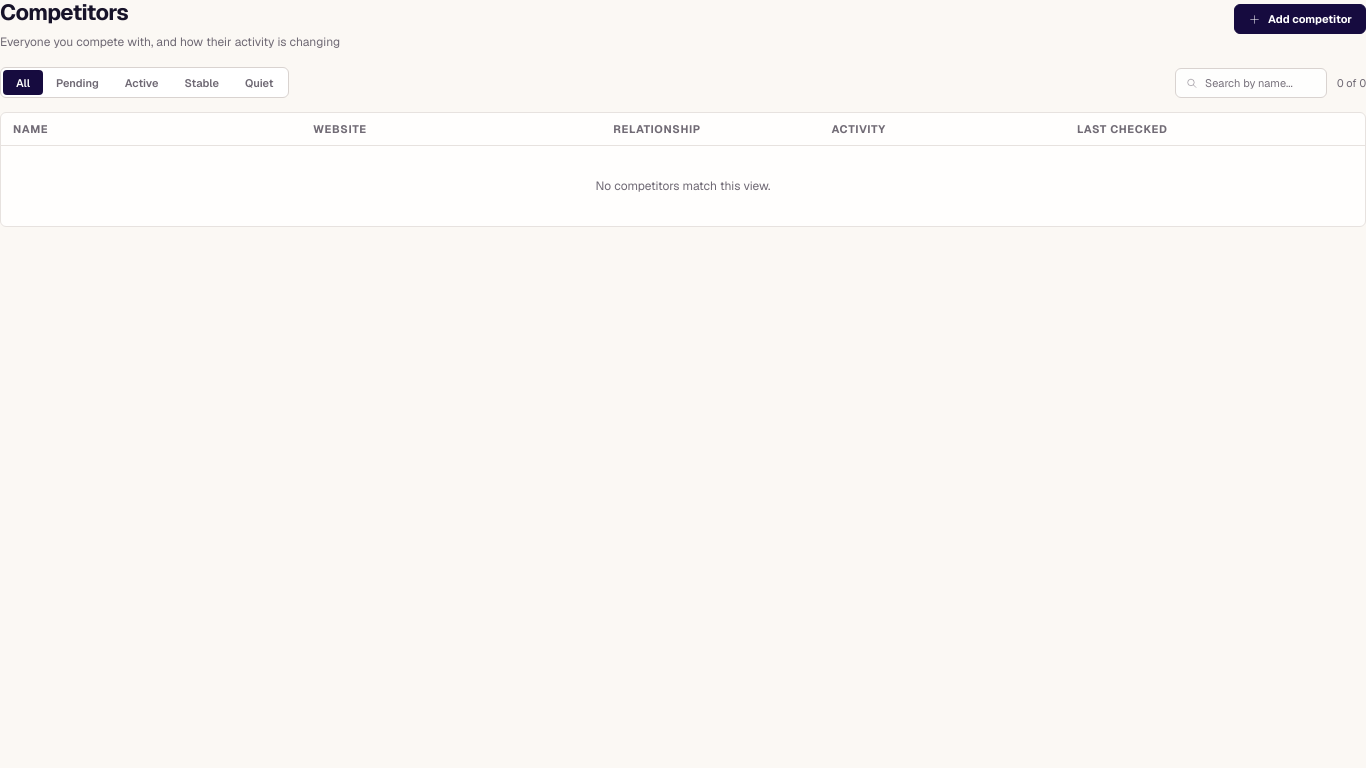
Test: CompetitorList › opens the add competitor form
Click the button "Add competitor": (1300, 19) [1234,4,1365,34]
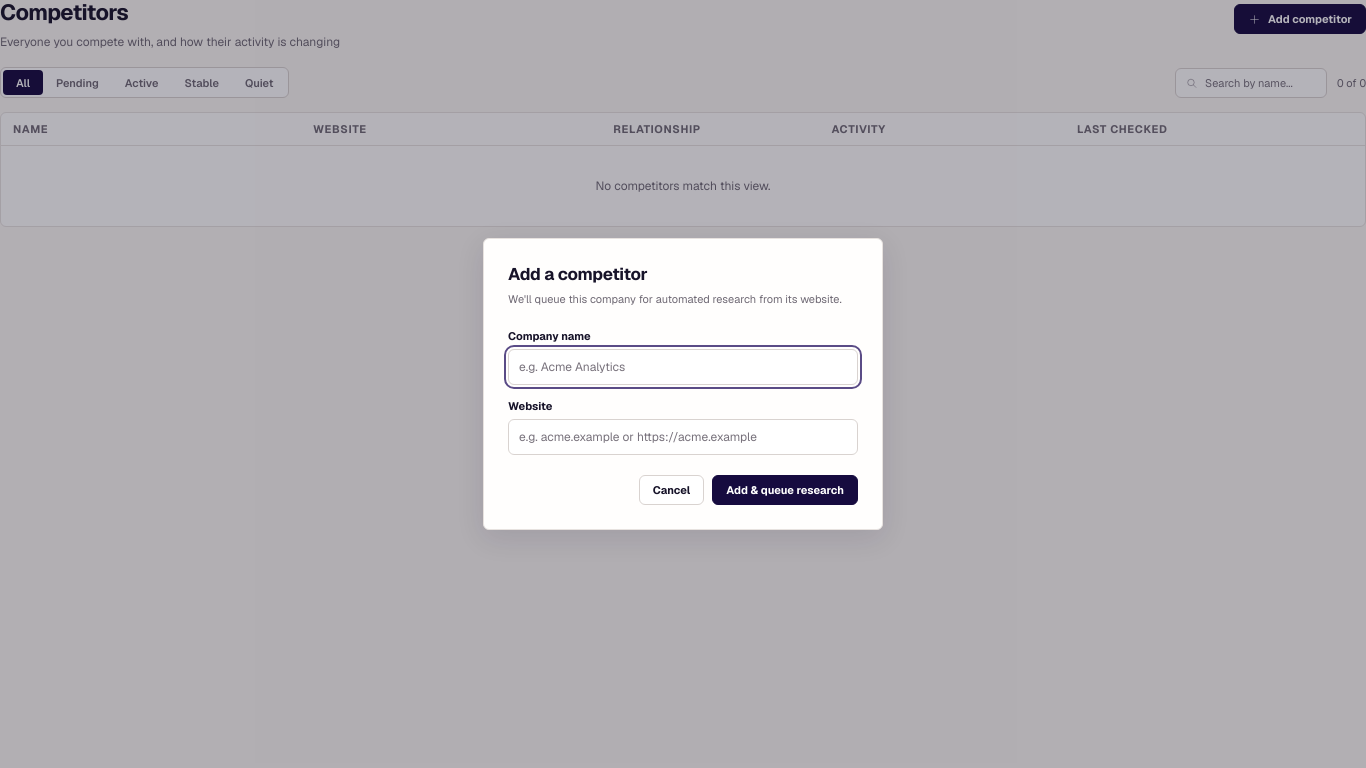
Result: the dialog "Add a competitor" is shown at [483,238,883,530]
